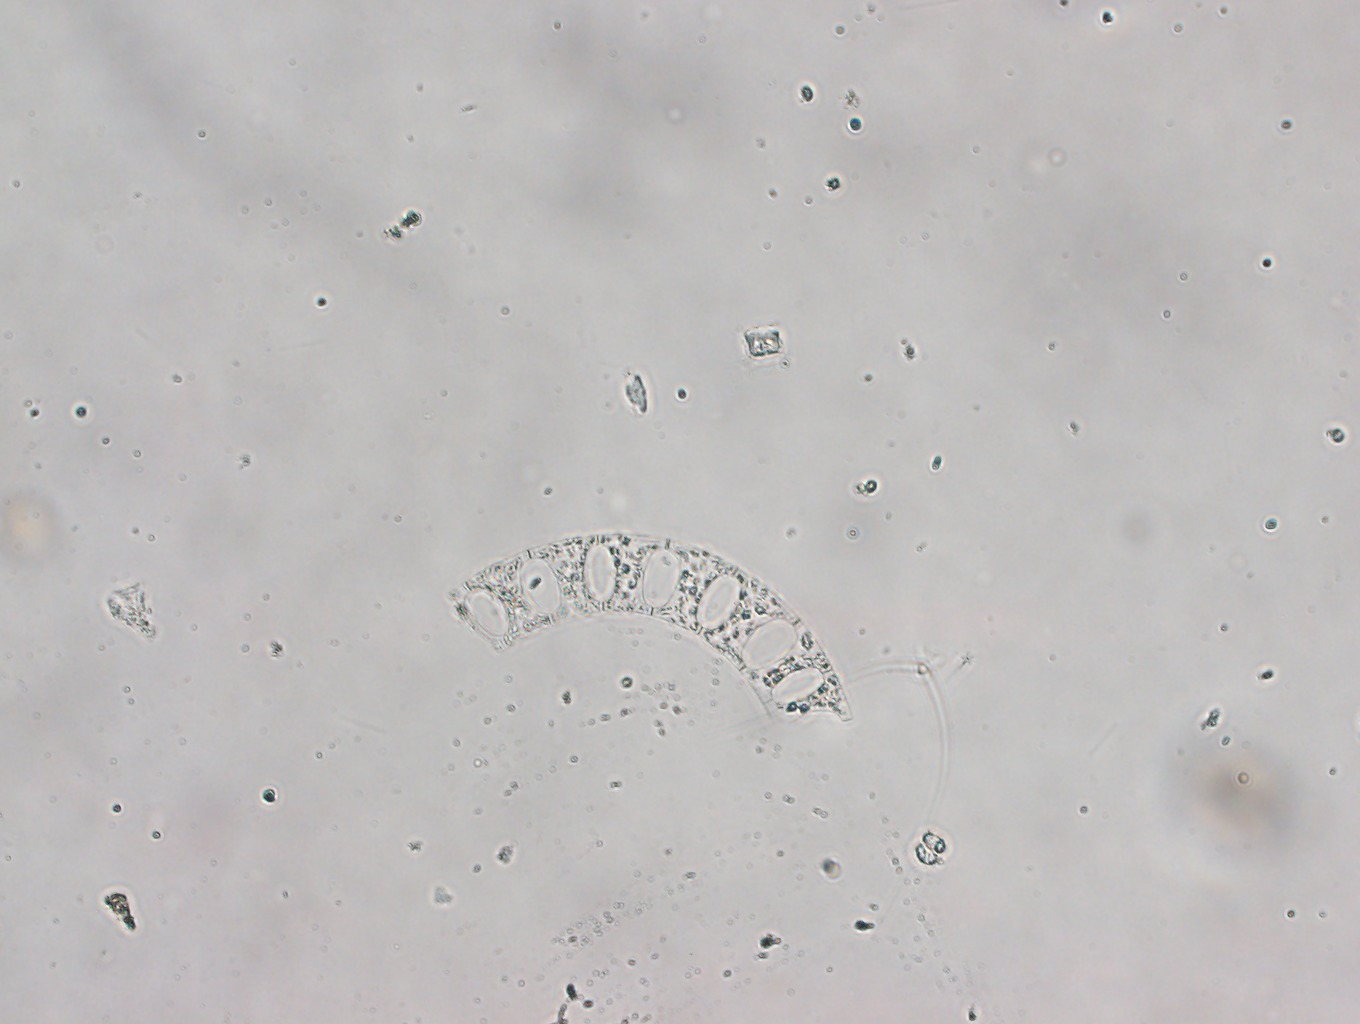eucampia: (452, 532, 850, 726)
